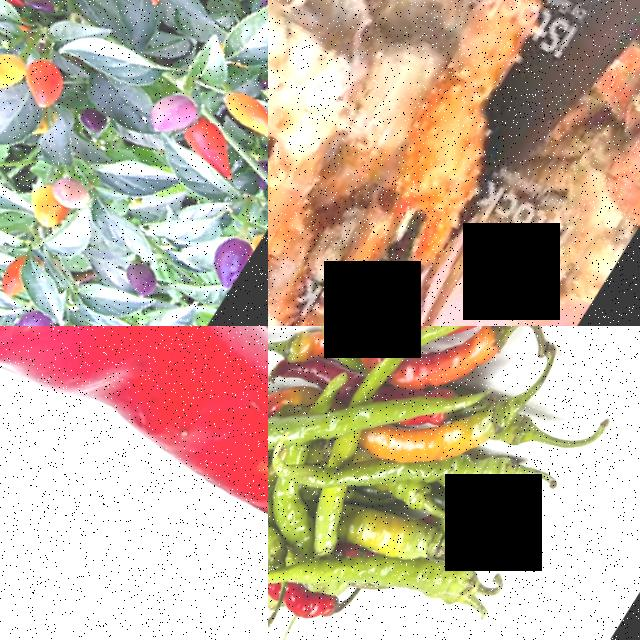chilli: (0, 326, 268, 583), (347, 488, 468, 579), (429, 371, 529, 480), (439, 326, 529, 403), (181, 112, 268, 182), (16, 47, 92, 118), (268, 490, 314, 575), (0, 39, 38, 103)
crab: (337, 0, 640, 259), (268, 0, 488, 326)
